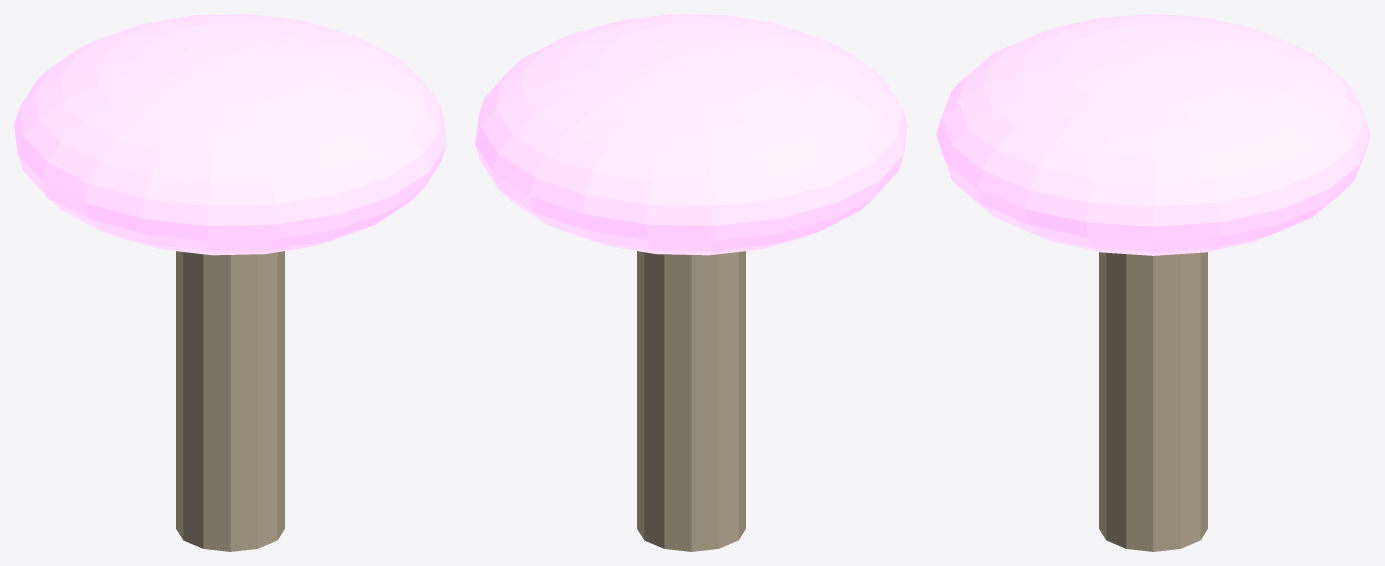
Rendered from prop_luminos_giant_mush.fbx.
3 views of the same model, side by side, from view 1: azimuth 30°, elevation 25°; view 2: azimuth 150°, elevation 25°; view 3: azimuth 270°, elevation 25° (orthographic).
Parts seen in each view (by area): view 1: L_GiantMush_Cap, L_GiantMush_Stem; view 2: L_GiantMush_Cap, L_GiantMush_Stem; view 3: L_GiantMush_Cap, L_GiantMush_Stem.
Boxes of the visible parts, x1,y1,x2,y2 form: L_GiantMush_Cap: [14, 14, 446, 255]; L_GiantMush_Stem: [176, 251, 284, 551]; L_GiantMush_Cap: [475, 14, 907, 255]; L_GiantMush_Stem: [637, 251, 745, 551]; L_GiantMush_Cap: [936, 14, 1370, 255]; L_GiantMush_Stem: [1099, 252, 1207, 551].
Bounding box in the file's own units: 1.6 × 1.92 × 1.6.
